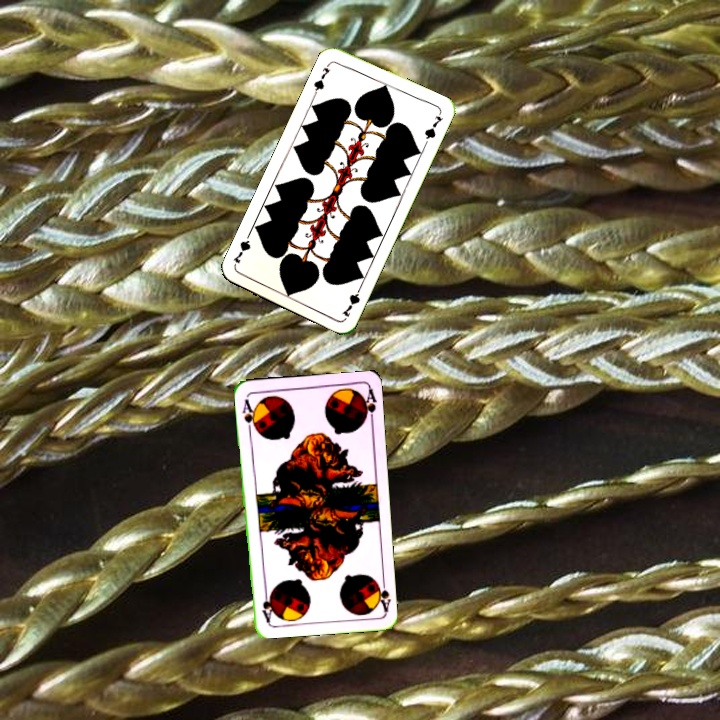G7: (338, 281, 364, 320), (310, 59, 333, 97)
SA: (371, 573, 392, 614), (238, 395, 259, 434)
